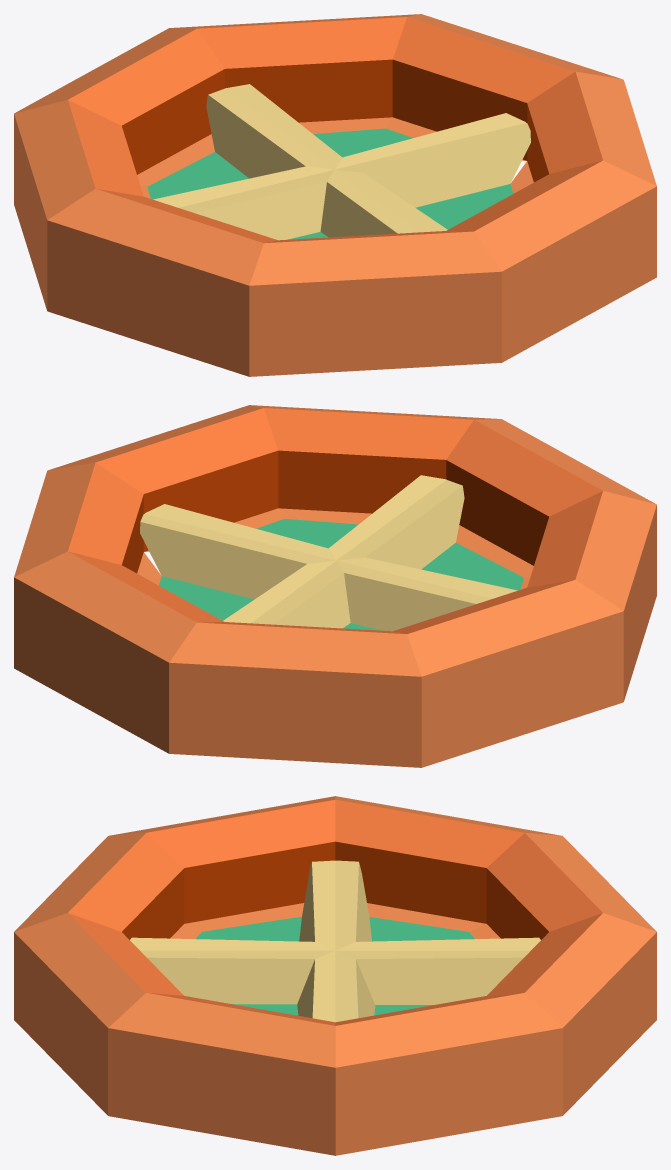
The model's file is OB_Window.fbx.
3 views of the same model, one above another, from view 1: azimuth 30°, elevation 25°; view 2: azimuth 150°, elevation 25°; view 3: azimuth 270°, elevation 25° (orthographic). The views are drawn at different scales.
Parts seen in each view (by area): view 1: OB_Mirror; view 2: OB_Mirror; view 3: OB_Mirror.
Part boxes in pixels (box(x1,y1,x2,y2)): OB_Mirror: box(14, 14, 656, 376); OB_Mirror: box(14, 405, 656, 767); OB_Mirror: box(14, 796, 656, 1155).
Size of the model in its own units: 200 by 36.79 by 200.
